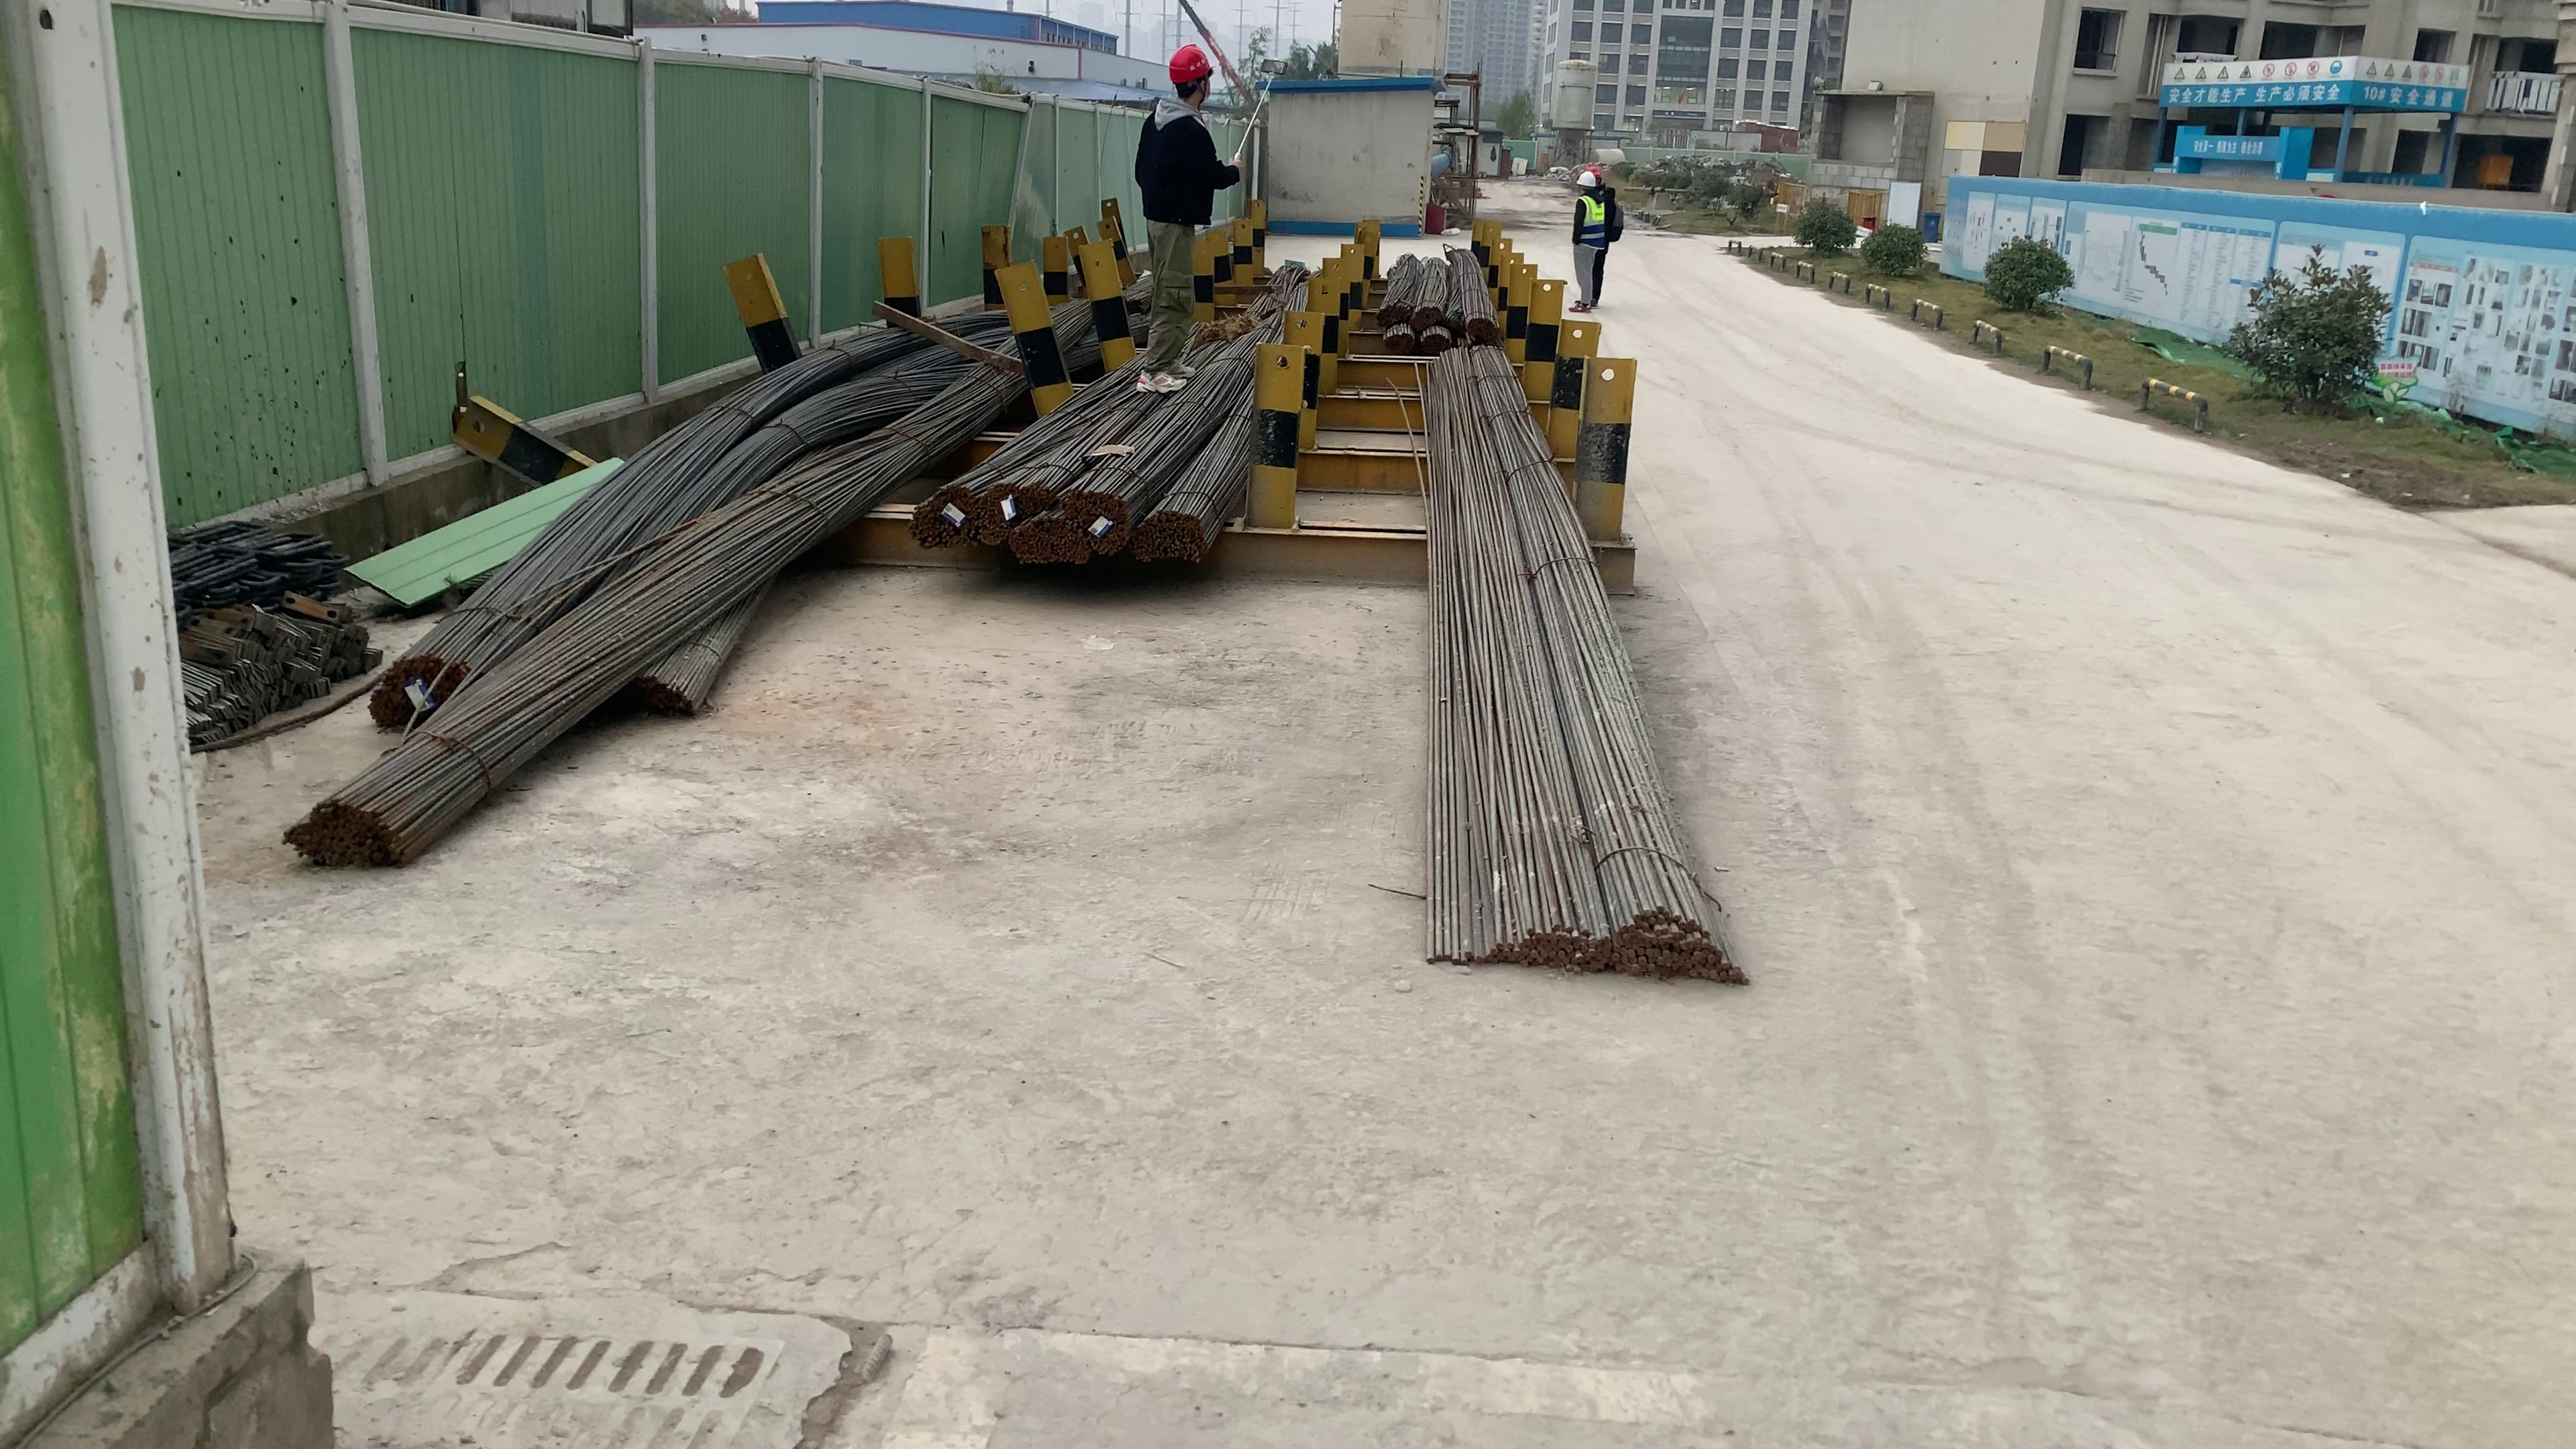rebar: (1430, 901, 1750, 996), (265, 801, 421, 867), (1134, 511, 1221, 580), (373, 660, 456, 711), (628, 665, 711, 715), (908, 488, 970, 545), (977, 481, 1047, 531), (1081, 490, 1131, 559), (1019, 525, 1086, 564), (1369, 304, 1410, 326), (1387, 326, 1419, 345), (1472, 311, 1499, 334), (1424, 331, 1445, 352), (1419, 306, 1442, 322)
